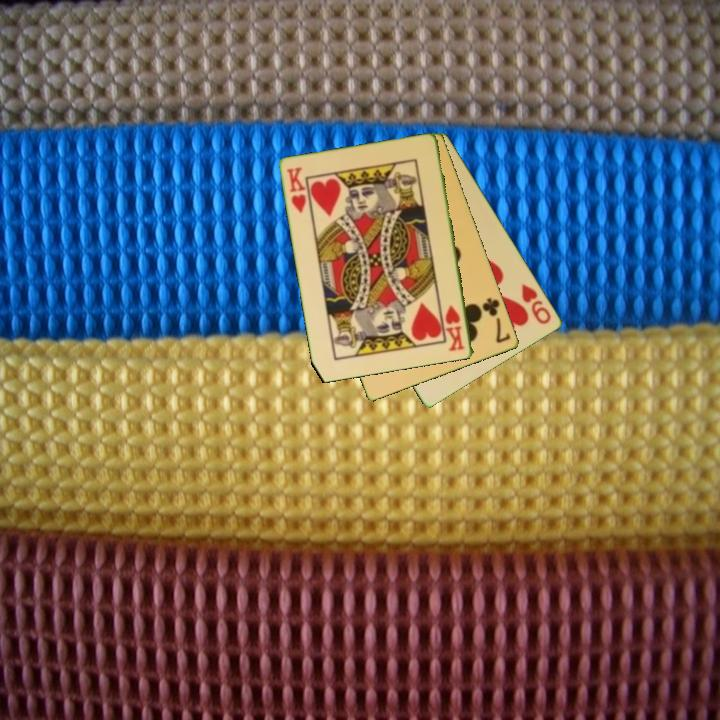7c: (479, 294, 513, 346)
9h: (518, 280, 555, 327)
Kh: (283, 163, 310, 216), (442, 302, 468, 354)
